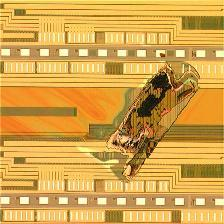PARTICLE: (100, 58, 204, 186)
